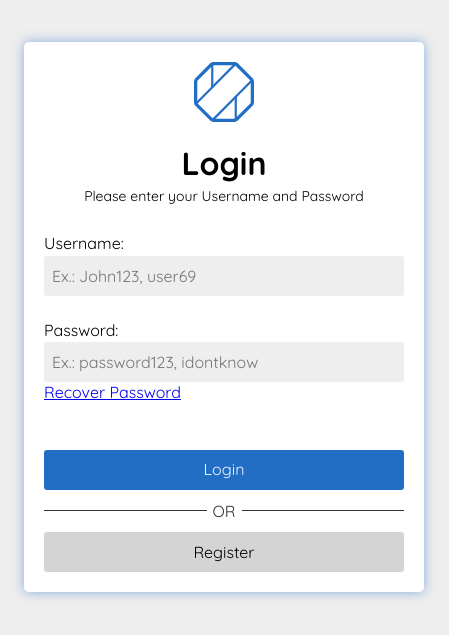
Scenario: Login Page › Handles missing fields
Click the button with test id "login" showing "Login" at coordinates (224, 470), box [44,450,404,490]
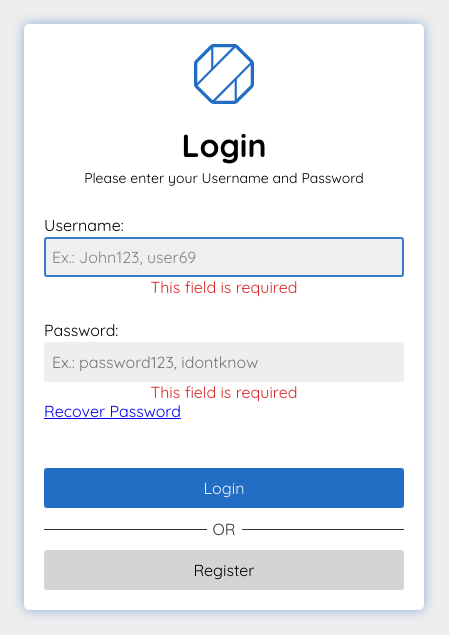
Expected: the text with test id "usernameMissing" is shown, [151,278,298,296]
Expected: the text with test id "passwordMissing" is shown, [151,383,298,401]
